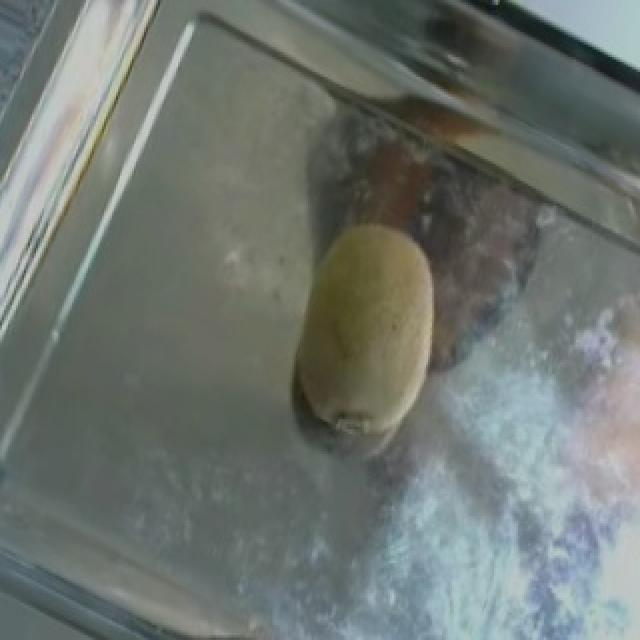Fruit: (254, 188, 480, 472)
